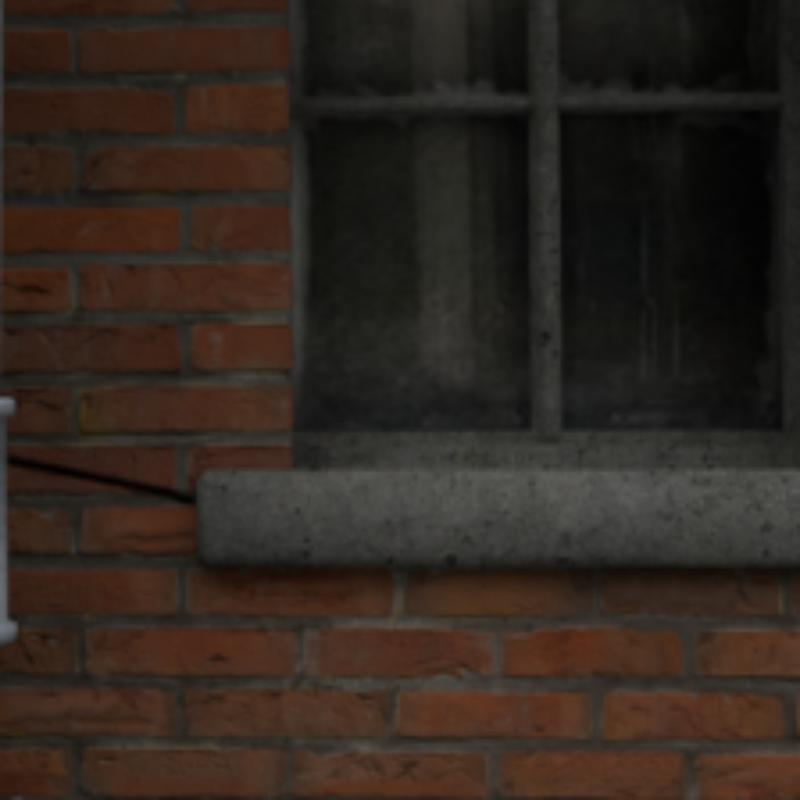pothole: (7, 457, 193, 500)
